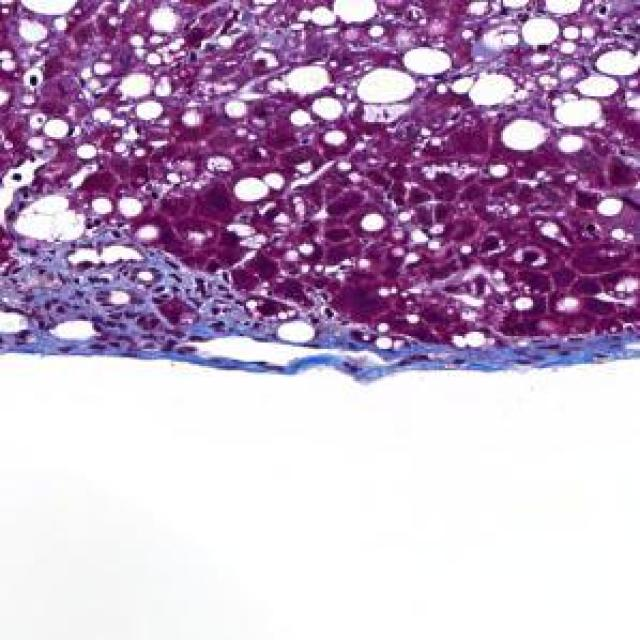fibrosis: (9, 240, 248, 360)
